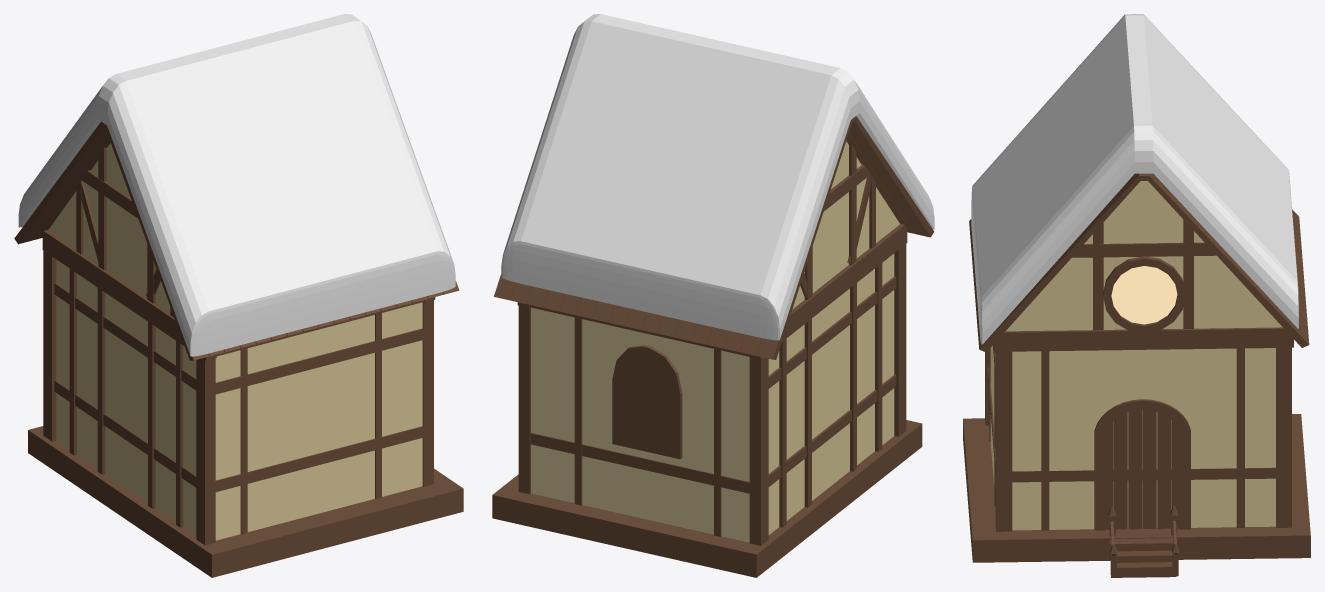
File: house2.glb
3 renders of one model, left to right at view 1: azimuth 30°, elevation 25°; view 2: azimuth 150°, elevation 25°; view 3: azimuth 270°, elevation 25°, orthographic. The views are drawn at different scales.
Parts seen in each view (by area): view 1: Plane.029; view 2: Plane.029; view 3: Plane.029.
Boxes of the visible parts, bbox=[...] form: Plane.029: bbox=[14, 14, 463, 577]; Plane.029: bbox=[492, 14, 934, 577]; Plane.029: bbox=[963, 14, 1310, 577].
Size of the model in its own units: 1.62 by 2.17 by 1.6.
